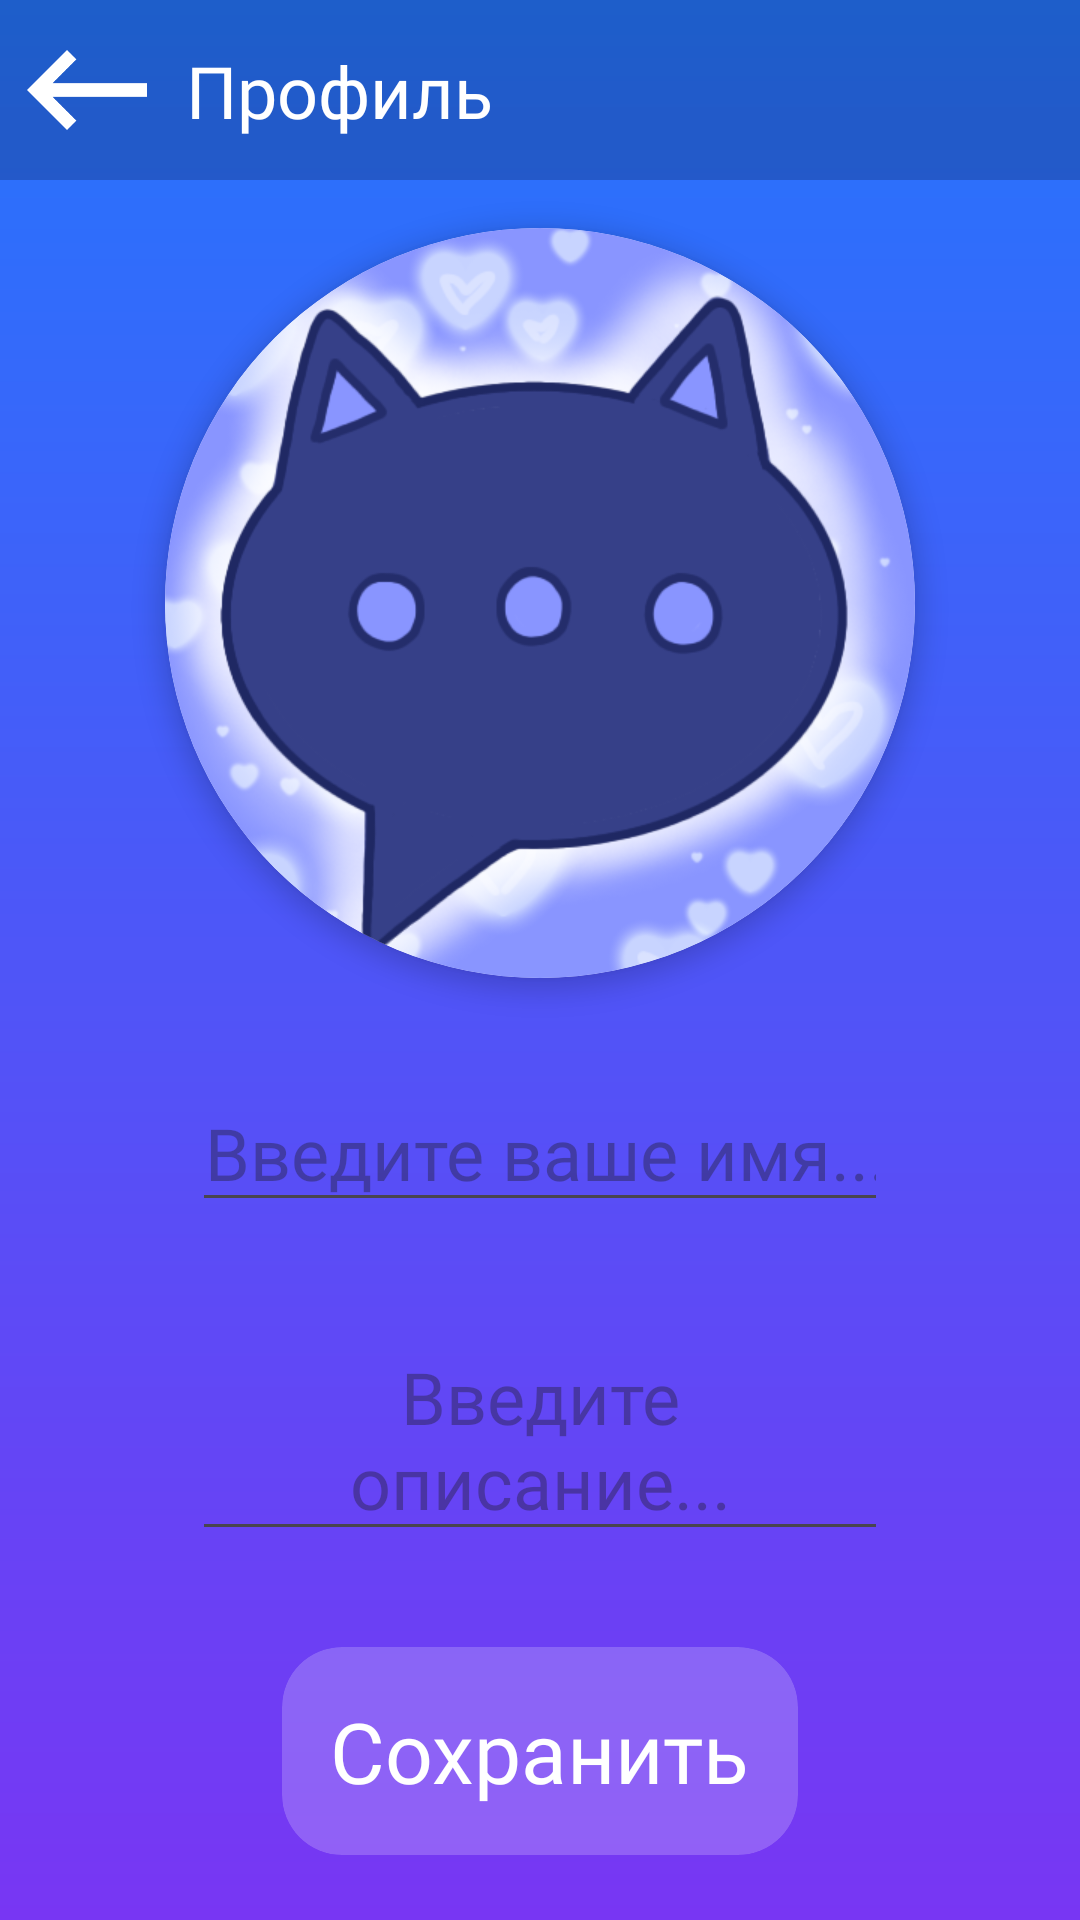

Icon click points for this 1080 x 1920 phone screenshot, format [x,y]:
back: [87,90]
